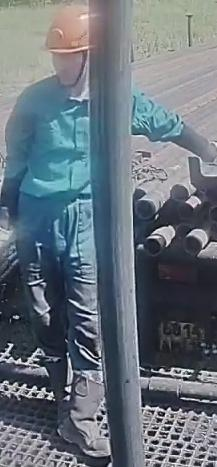gloves: (196, 136, 217, 169), (0, 216, 15, 251)
helmet: (42, 4, 91, 63)
vest: (0, 76, 93, 213)
